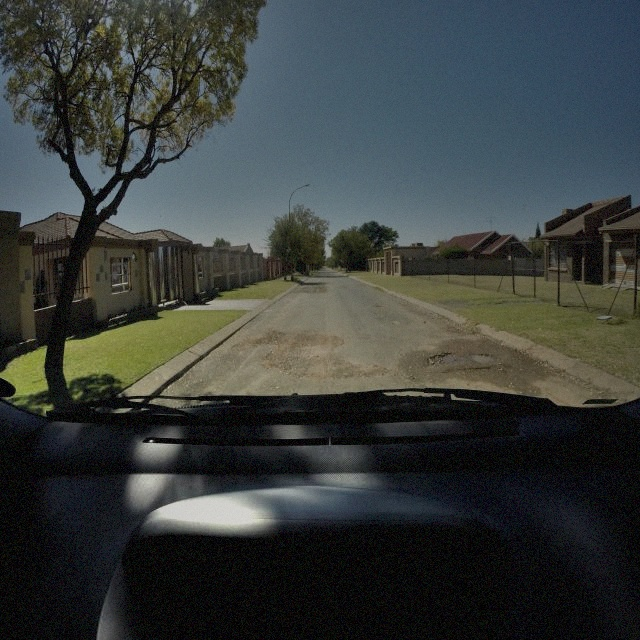pothole: (427, 352, 495, 368), (426, 349, 466, 368), (464, 351, 492, 370), (374, 302, 385, 312)
